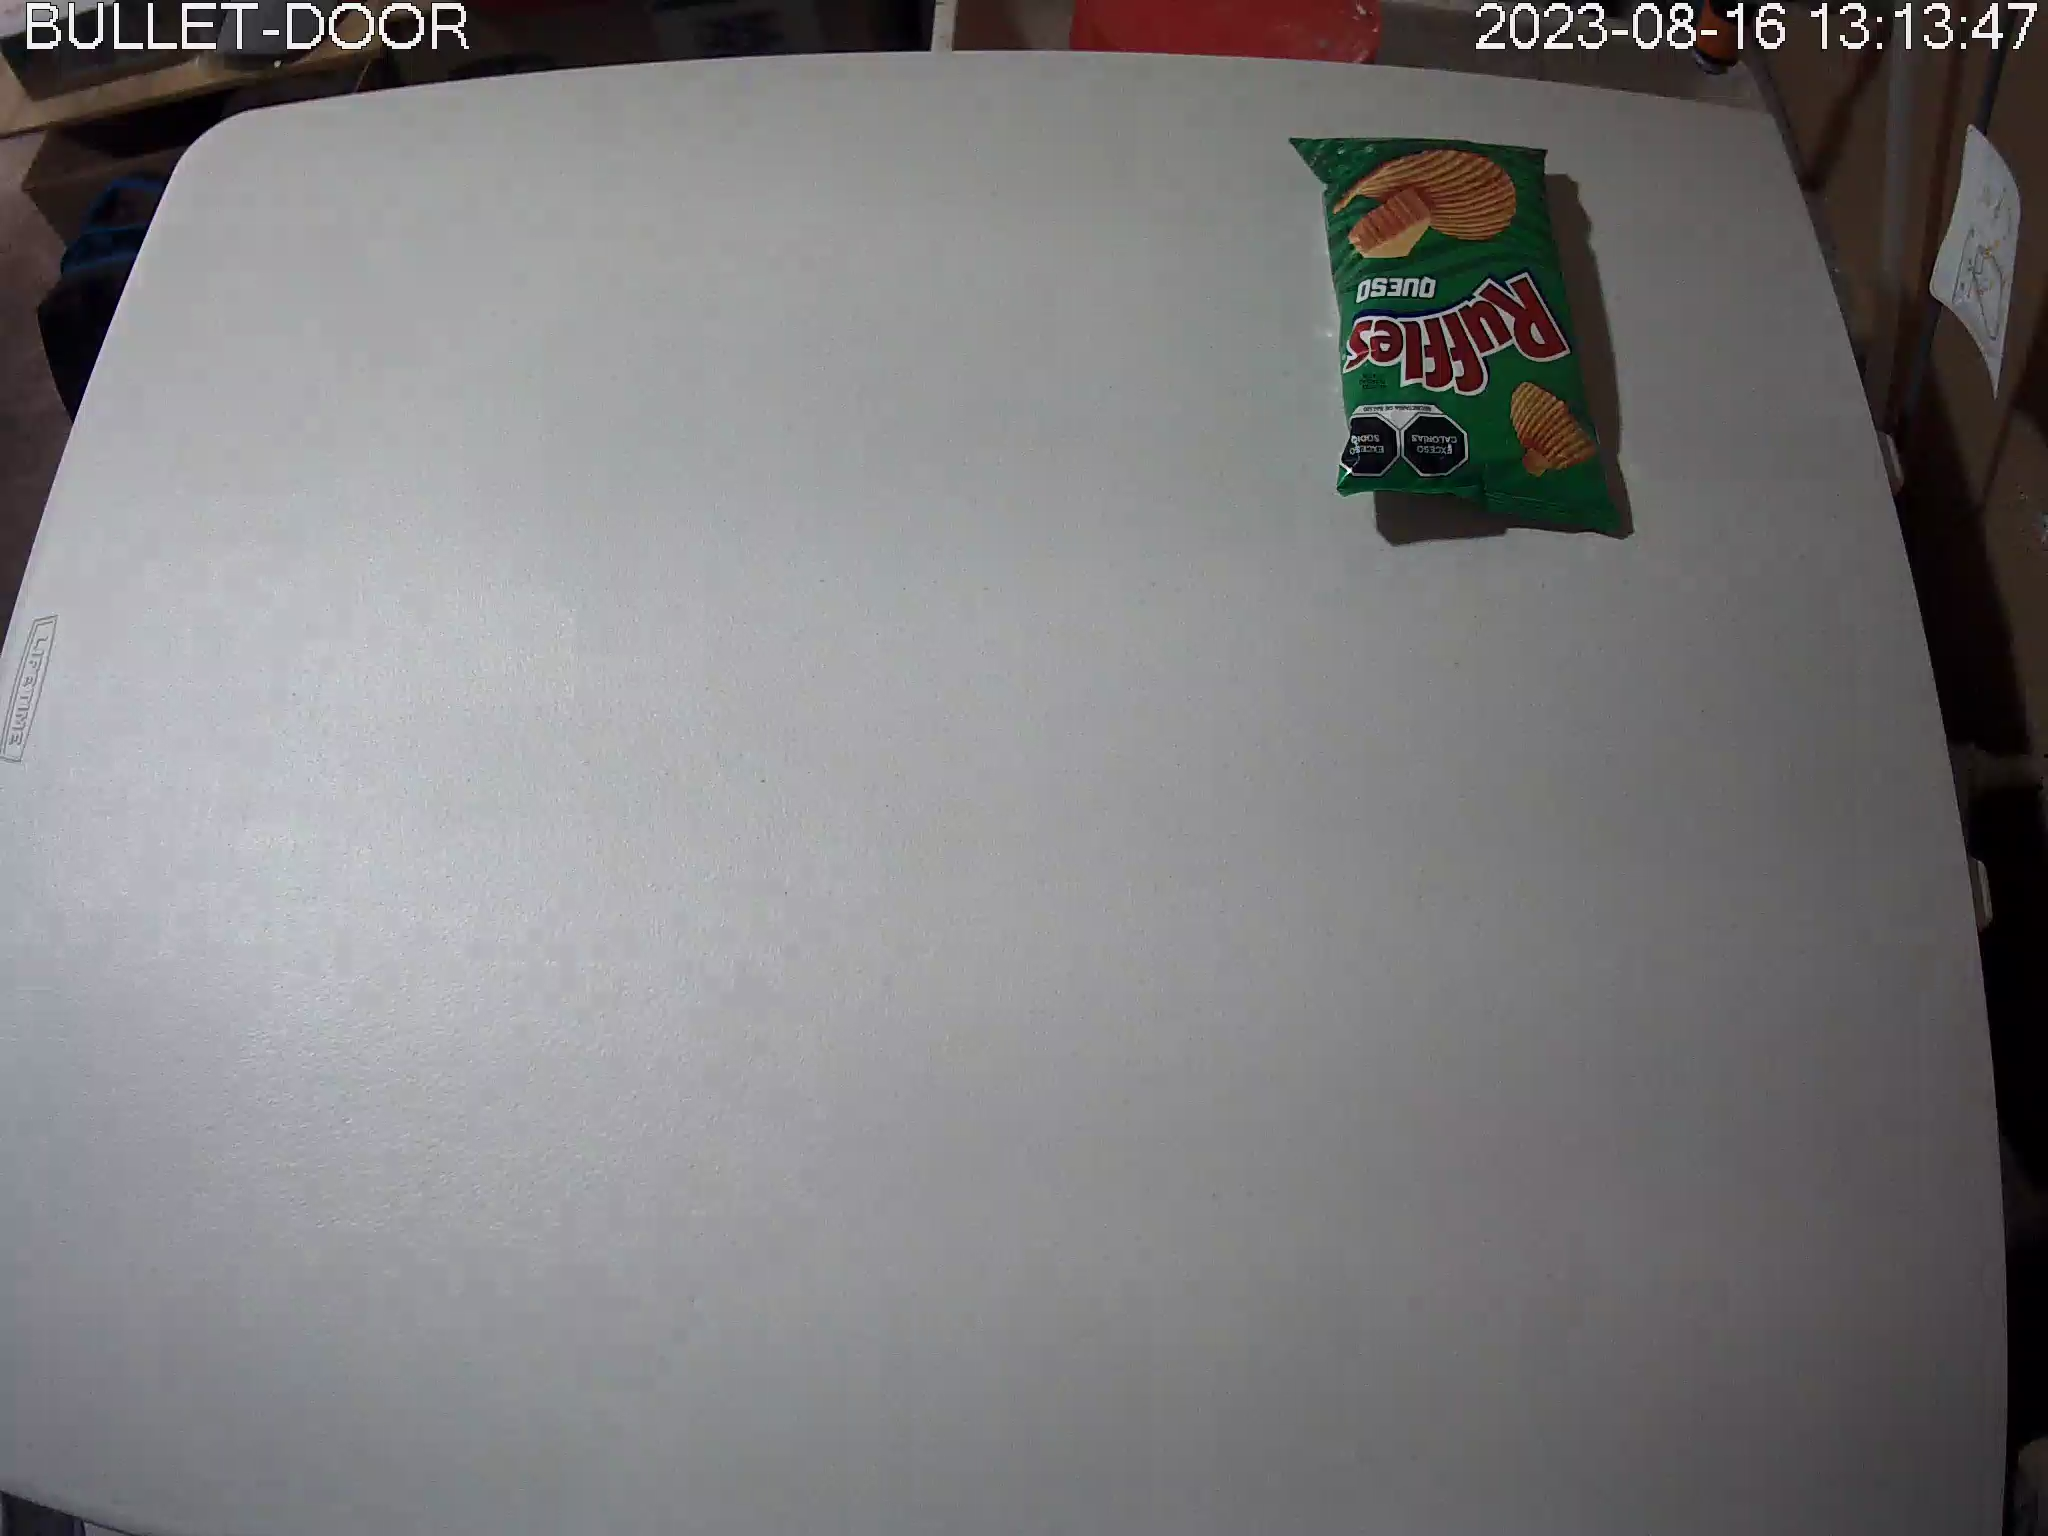RufflesQ_48_F: (1288, 136, 1624, 537)
